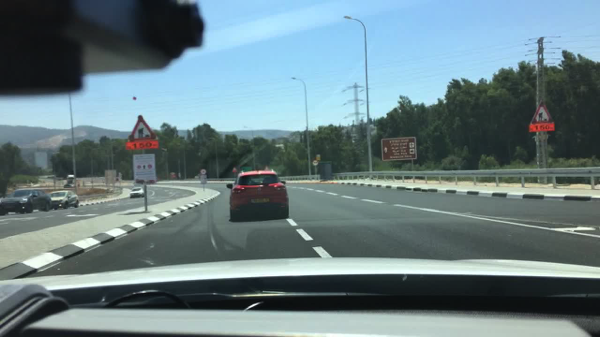car: (225, 170, 289, 220), (0, 188, 53, 213), (50, 191, 79, 209), (131, 187, 146, 198), (66, 174, 76, 182)
traffic sign: (381, 138, 417, 160), (129, 116, 155, 140), (133, 157, 154, 181), (530, 101, 551, 122), (125, 141, 159, 148), (528, 124, 554, 132), (104, 171, 117, 184), (200, 176, 207, 184), (312, 160, 318, 166), (200, 169, 207, 174)
